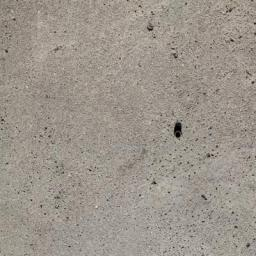FOD: (171, 119, 186, 142)
